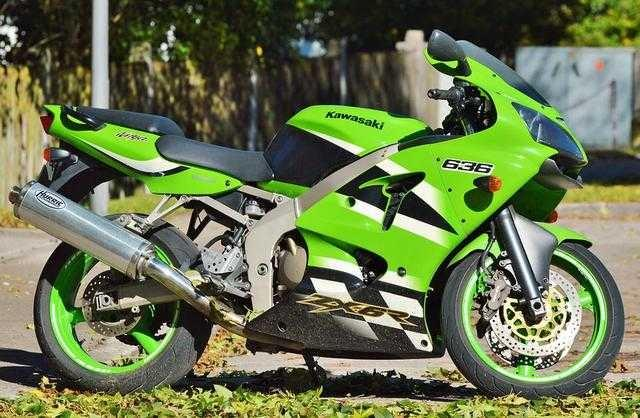motorbike: (34, 73, 625, 398)
